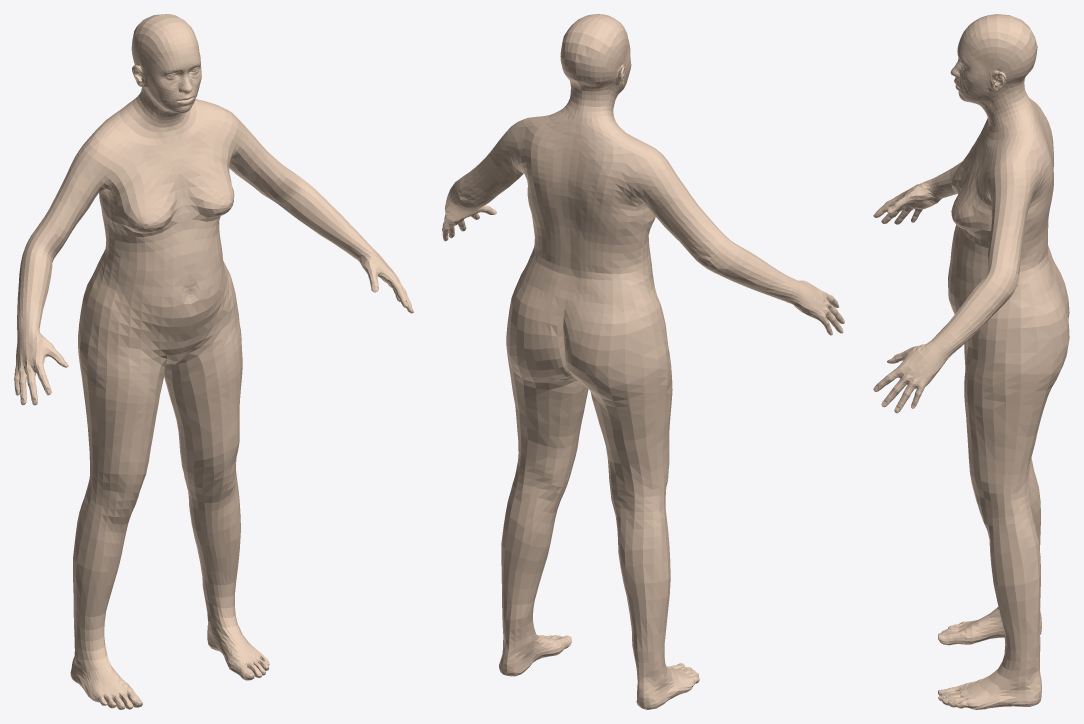
The model's file is female-mature-heavy-low.glb.
3 renders of one model, left to right at view 1: azimuth 30°, elevation 25°; view 2: azimuth 150°, elevation 25°; view 3: azimuth 270°, elevation 25°, orthographic.
Parts seen in each view (by area): view 1: world; view 2: world; view 3: world.
Part boxes in pixels (x1,y1,x2,y2): world: (14,14,413,709); world: (442,14,844,709); world: (873,14,1069,709).
Size of the model in its own units: 1.12 by 1.81 by 0.4909.
